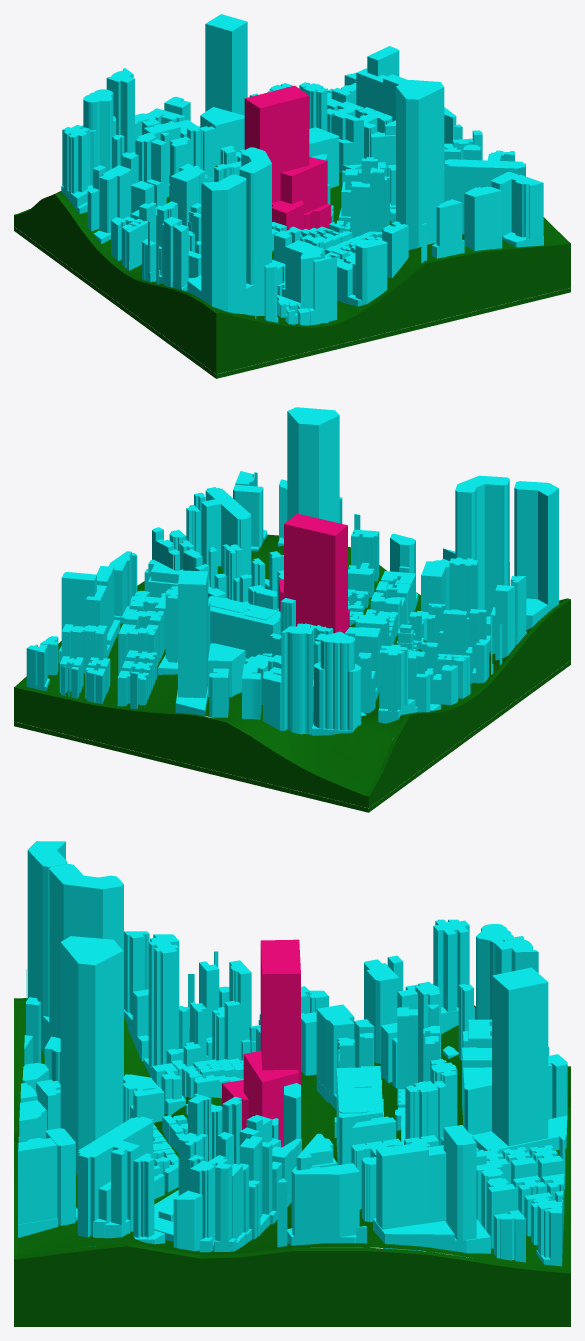
File: prettymodel.fbx
3 renders of one model, top to bottom at view 1: azimuth 30°, elevation 25°; view 2: azimuth 150°, elevation 25°; view 3: azimuth 270°, elevation 25°, orthographic. The views are drawn at different scales.
Parts seen in each view (by area): view 1: Model, Group679, Group519, Group304, Group395, Group43, Group215, Group680, Group357, Group154, Group224, Group25 (+44 smaller); view 2: Model, Group680, Group679, Group395, Group519, Group215, Group304, Group43, Group637, Group357, Group172, Group82 (+44 smaller); view 3: Group679, Group519, Group680, Group43, Group215, Model, Group395, Group45, Group357, Group196, Group304, Group249 (+65 smaller).
Boxes of the visible parts, x1=… form: Model: x1=14, y1=208, x2=570, y2=378; Group679: x1=15, y1=193, x2=568, y2=372; Group519: x1=396, y1=79, x2=444, y2=249; Group304: x1=201, y1=174, x2=246, y2=314; Group395: x1=244, y1=85, x2=309, y2=202; Group43: x1=205, y1=14, x2=247, y2=115; Group215: x1=239, y1=147, x2=271, y2=315; Group680: x1=24, y1=165, x2=563, y2=326; Group357: x1=444, y1=154, x2=525, y2=234; Group154: x1=464, y1=186, x2=502, y2=250; Group224: x1=280, y1=157, x2=327, y2=213; Group25: x1=285, y1=240, x2=324, y2=308; Model: x1=14, y1=534, x2=570, y2=812; Group680: x1=20, y1=535, x2=564, y2=794; Group679: x1=15, y1=581, x2=569, y2=806; Group395: x1=284, y1=513, x2=347, y2=633; Group519: x1=287, y1=407, x2=339, y2=523; Group215: x1=455, y1=475, x2=509, y2=616; Group304: x1=514, y1=481, x2=558, y2=612; Group43: x1=178, y1=570, x2=208, y2=698; Group637: x1=281, y1=623, x2=313, y2=734; Group357: x1=201, y1=487, x2=251, y2=575; Group172: x1=314, y1=662, x2=361, y2=730; Group82: x1=208, y1=596, x2=280, y2=658; Group679: x1=17, y1=998, x2=567, y2=1320; Group519: x1=60, y1=936, x2=123, y2=1174; Group680: x1=17, y1=1000, x2=567, y2=1269; Group43: x1=492, y1=967, x2=548, y2=1146; Group215: x1=49, y1=864, x2=123, y2=1076; Model: x1=14, y1=998, x2=570, y2=1326; Group395: x1=260, y1=939, x2=300, y2=1084; Group45: x1=292, y1=1163, x2=359, y2=1247; Group357: x1=77, y1=1116, x2=153, y2=1248; Group196: x1=376, y1=1142, x2=428, y2=1229; Group304: x1=27, y1=841, x2=67, y2=1049; Group249: x1=148, y1=936, x2=178, y2=1067.
Size of the model in its own units: 32.52 by 18.69 by 32.11.
